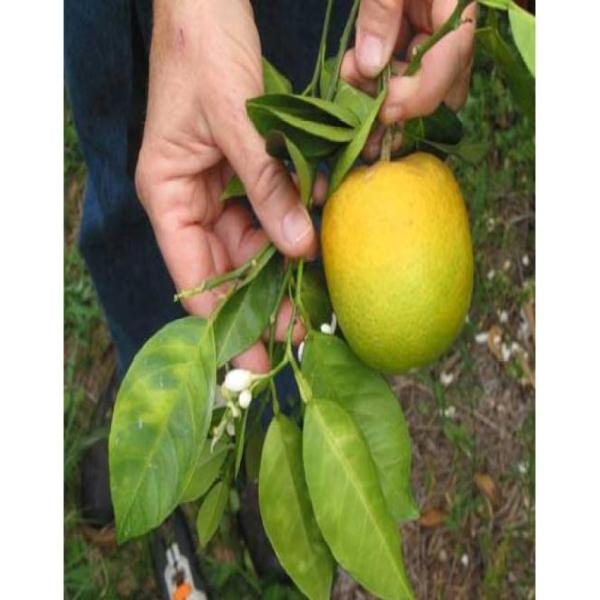Greening: (317, 141, 484, 385)
